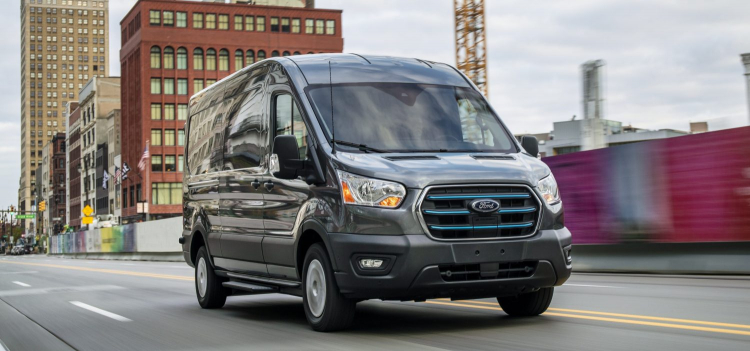van: (179, 53, 572, 330)
